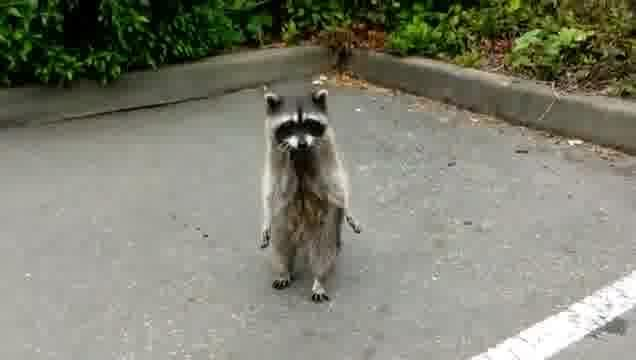raccoon: (247, 91, 365, 302)
